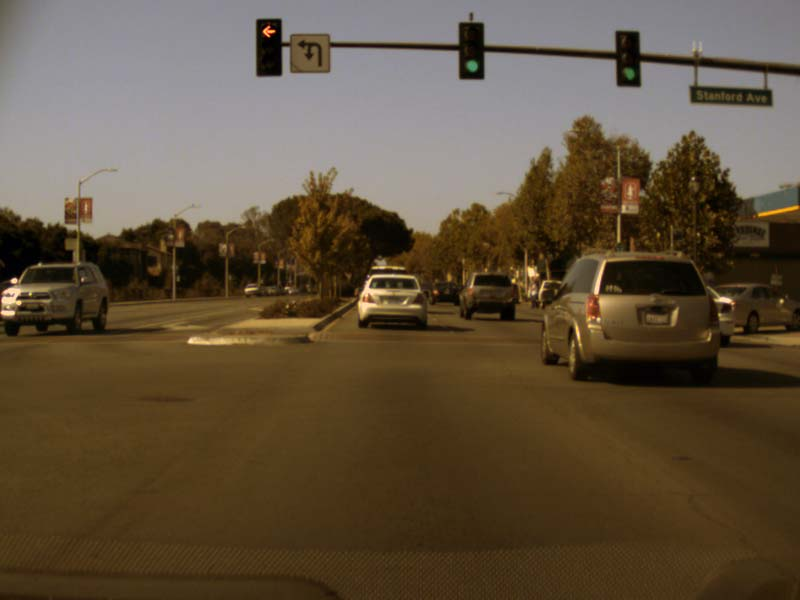Green: (460, 23, 484, 80), (615, 32, 639, 86)
Red: (257, 18, 281, 76)
